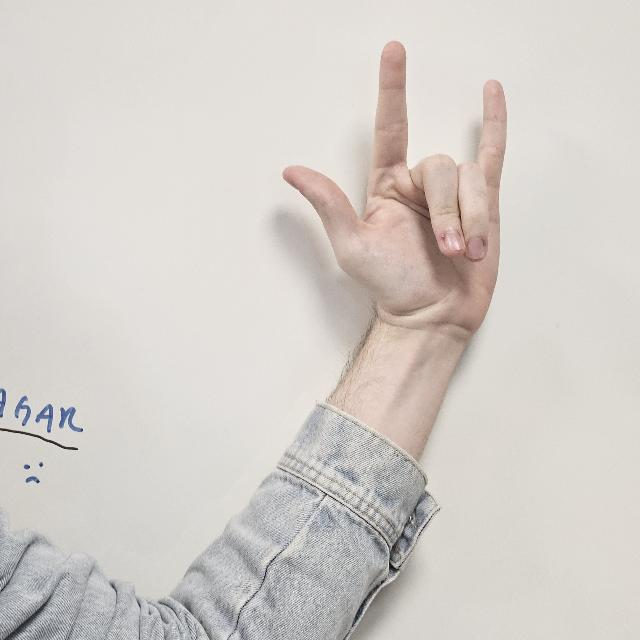Cima: (283, 40, 509, 350)
